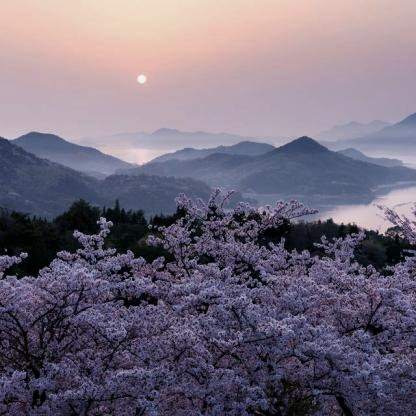Someiyoshino: (0, 203, 415, 414)
